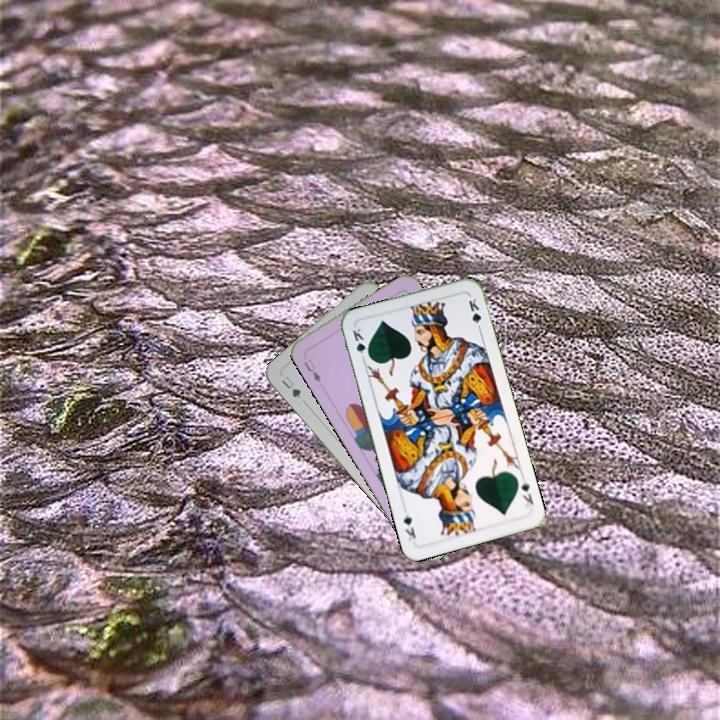EU: (300, 355, 323, 385)
GK: (348, 324, 372, 363), (517, 476, 536, 509)
GU: (277, 372, 303, 401)
